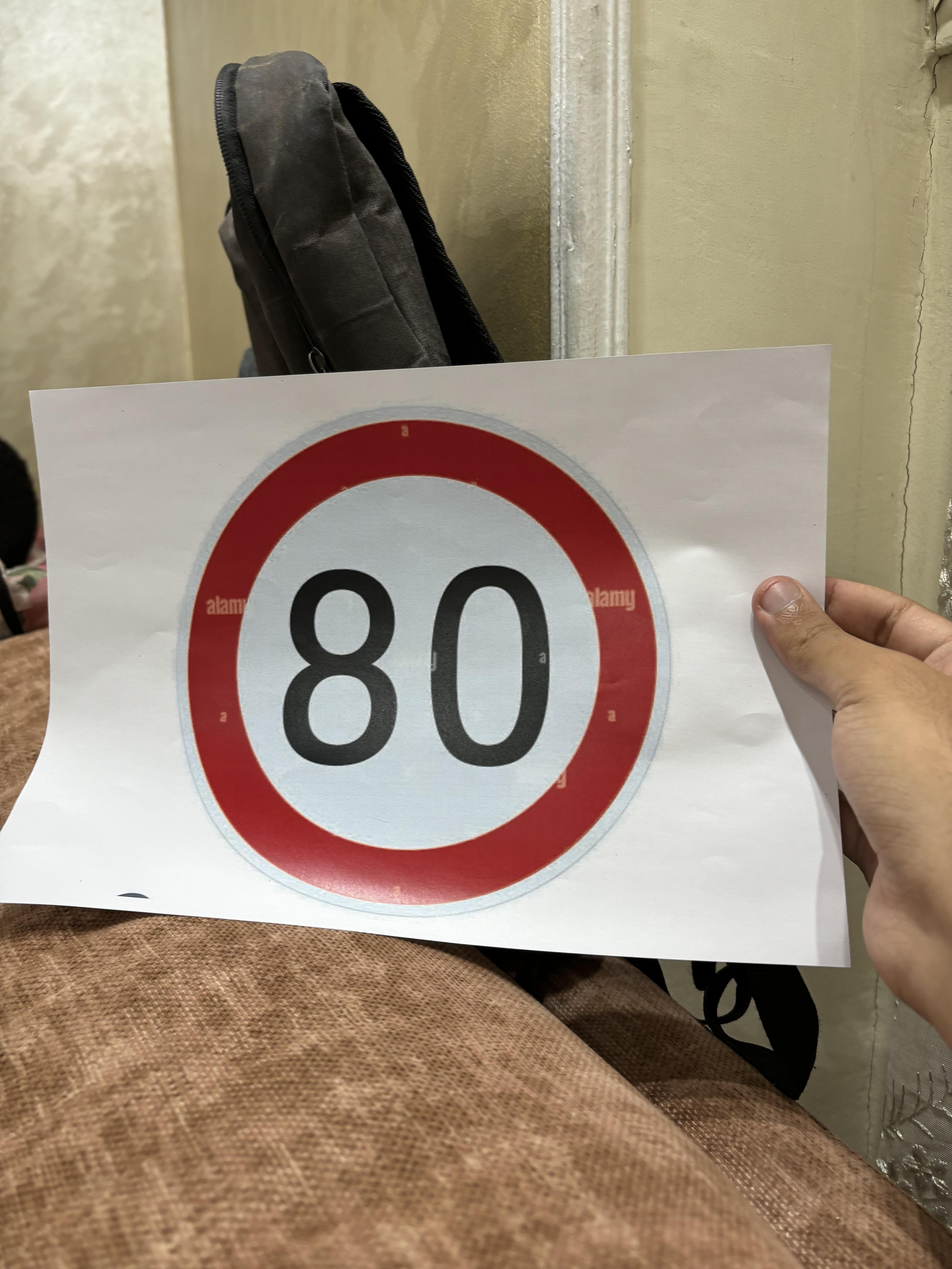80-Speed: (158, 398, 669, 917)
